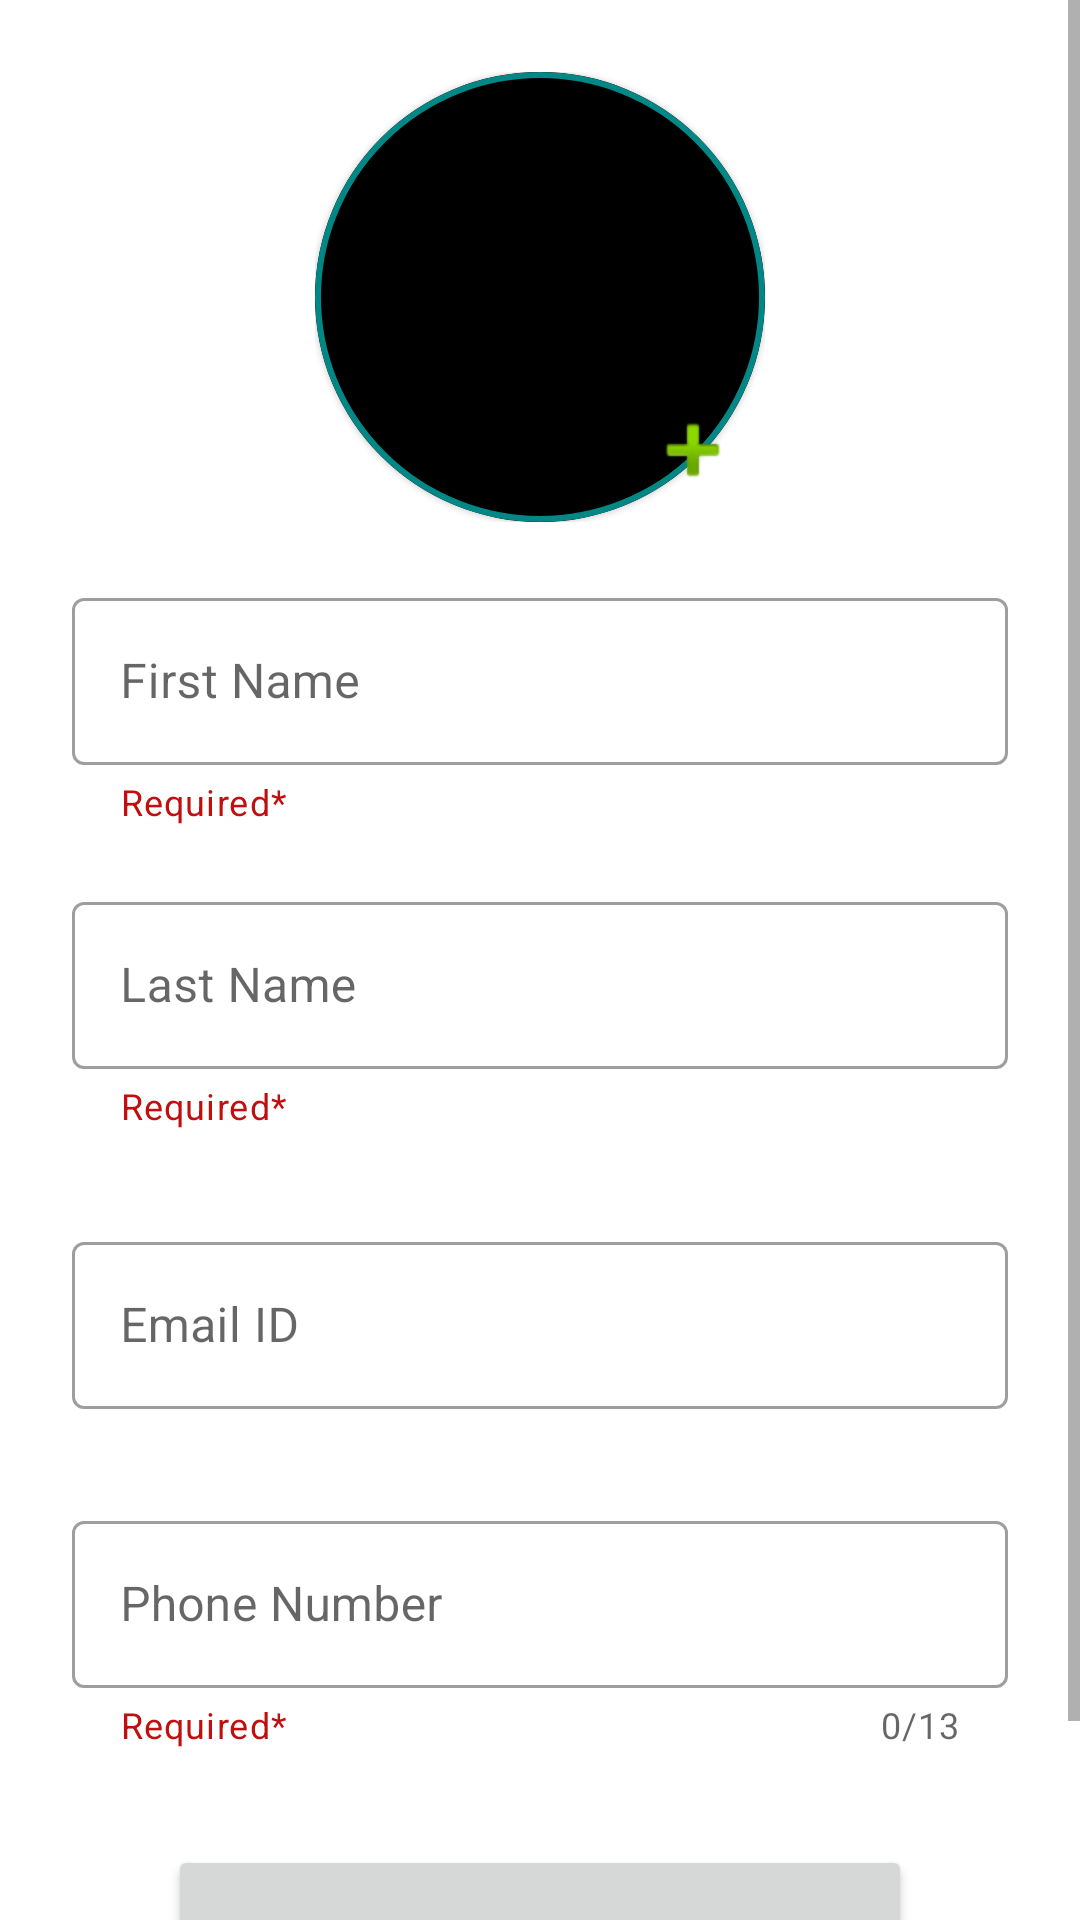

Named icons in this screenshot (1080w x 1920h) and their centers, point (x, y):
add: point (693, 450)
